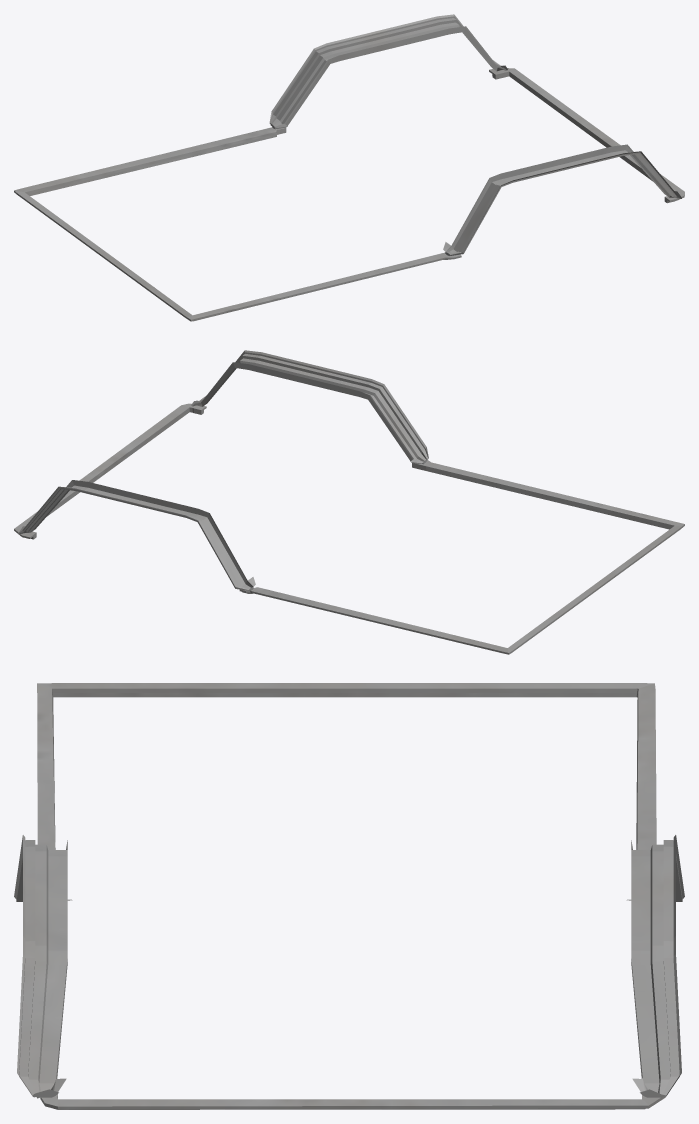
The model's file is Ranni.fbx.
The picture shows the model from 3 angles, top to bottom: view 1: azimuth 30°, elevation 25°; view 2: azimuth 150°, elevation 25°; view 3: azimuth 270°, elevation 25°; orthographic projection. The views are drawn at different scales.
Visible parts, largest first — view 1: Ränni; view 2: Ränni; view 3: Ränni.
Boxes of the visible parts, x1,y1,x2,y2 form: Ränni: (14,14,684,321); Ränni: (14,350,684,654); Ränni: (14,683,684,1109).
Size of the model in its own units: 2195 by 294 by 1460.
